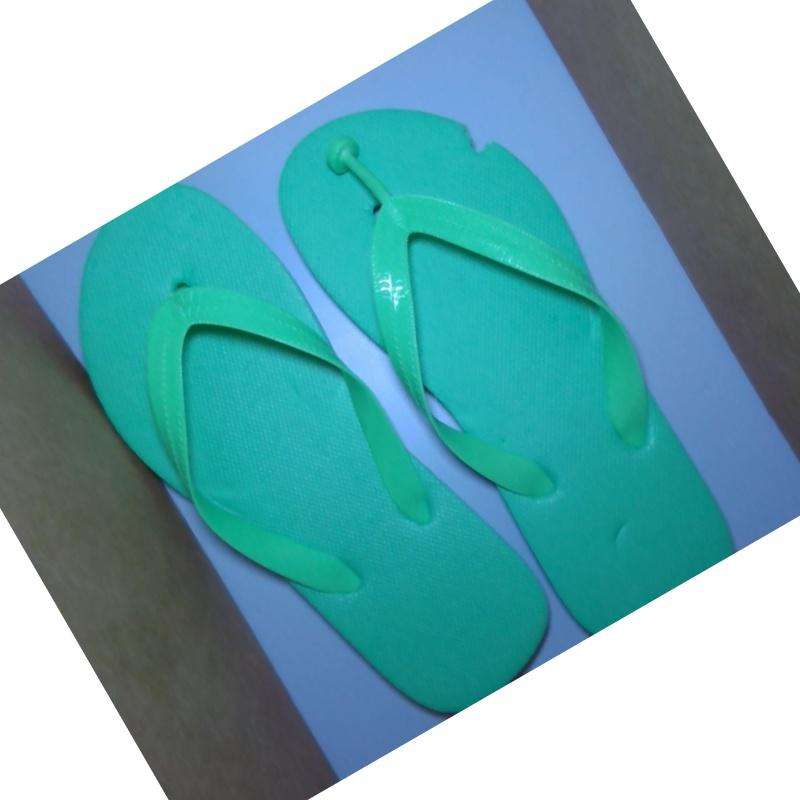chipped: (452, 108, 512, 173)
detached: (318, 127, 372, 190)
